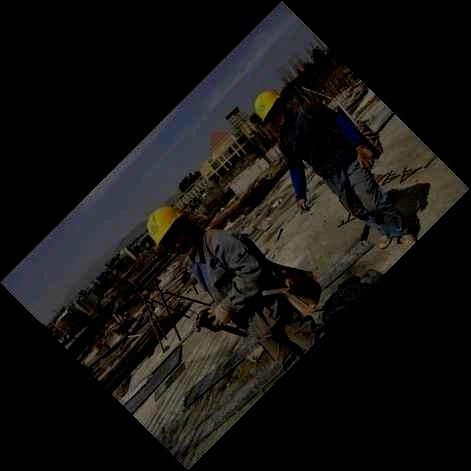helmet: (146, 205, 192, 254), (253, 88, 286, 126)
